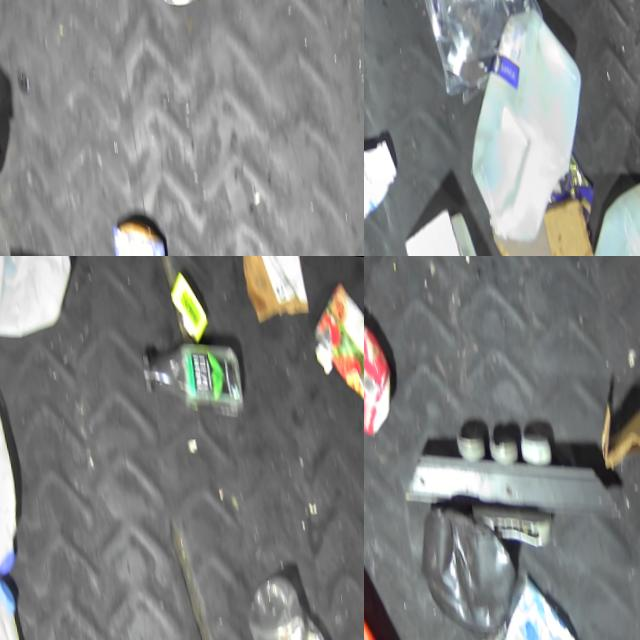can: (305, 264, 364, 393), (98, 207, 164, 256), (165, 260, 207, 334)
milk_jug: (444, 0, 590, 237), (559, 156, 640, 256), (0, 256, 76, 339)
non_white_jug: (364, 256, 389, 436)
plastic_bottle: (232, 560, 348, 640), (136, 328, 241, 410)
